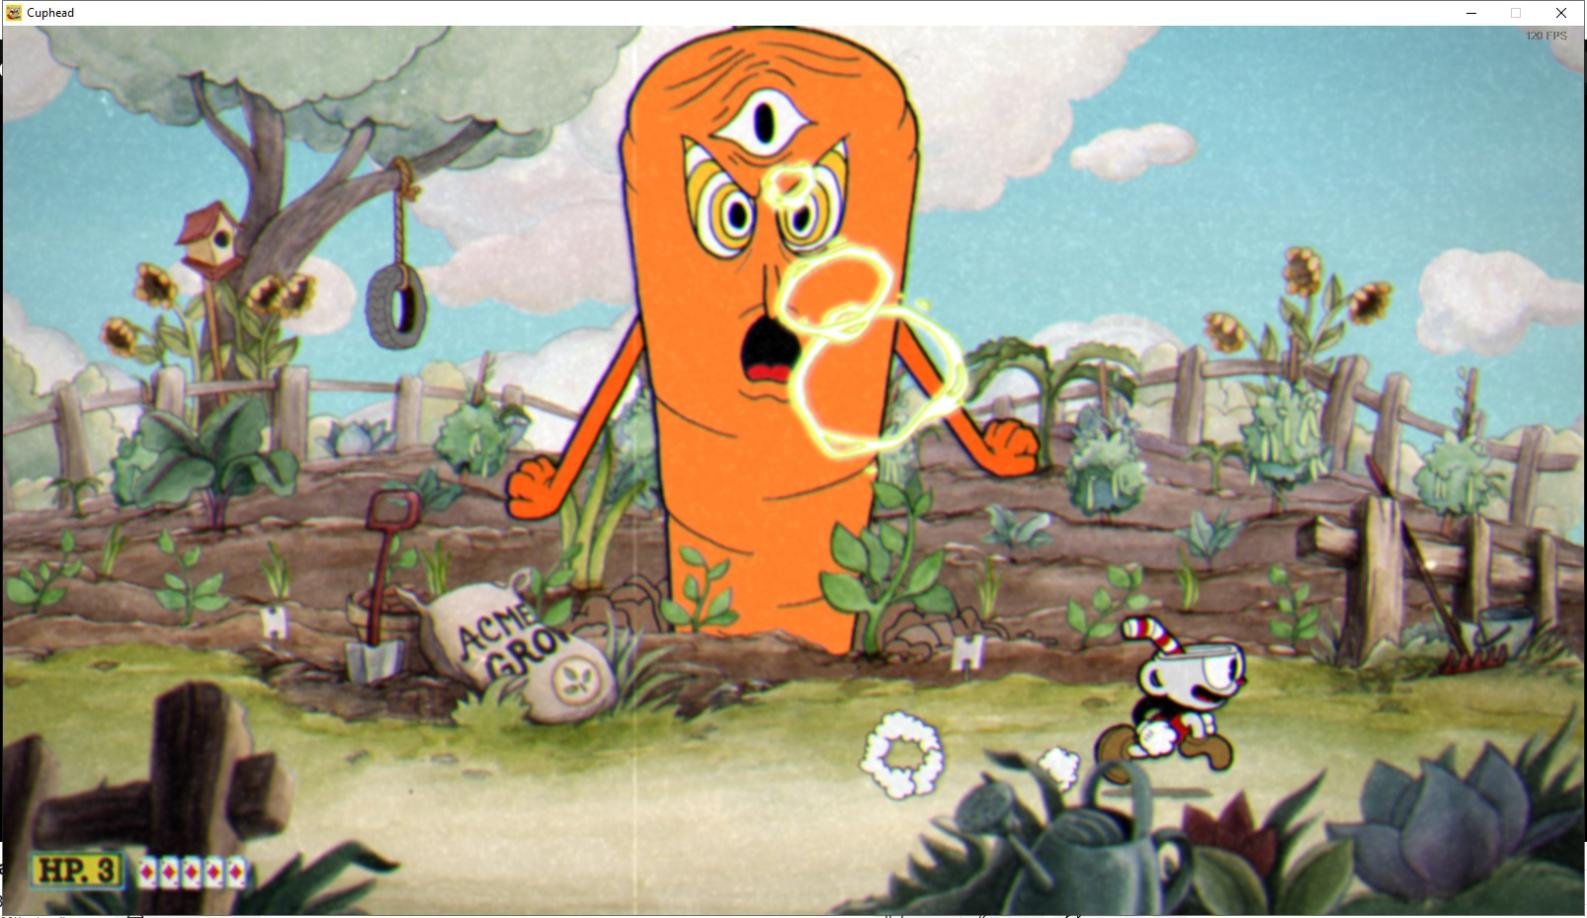hp3: (93, 853, 123, 890)
player: (1083, 609, 1265, 789)
ring: (788, 298, 1002, 477), (769, 235, 898, 348), (758, 152, 827, 220)
